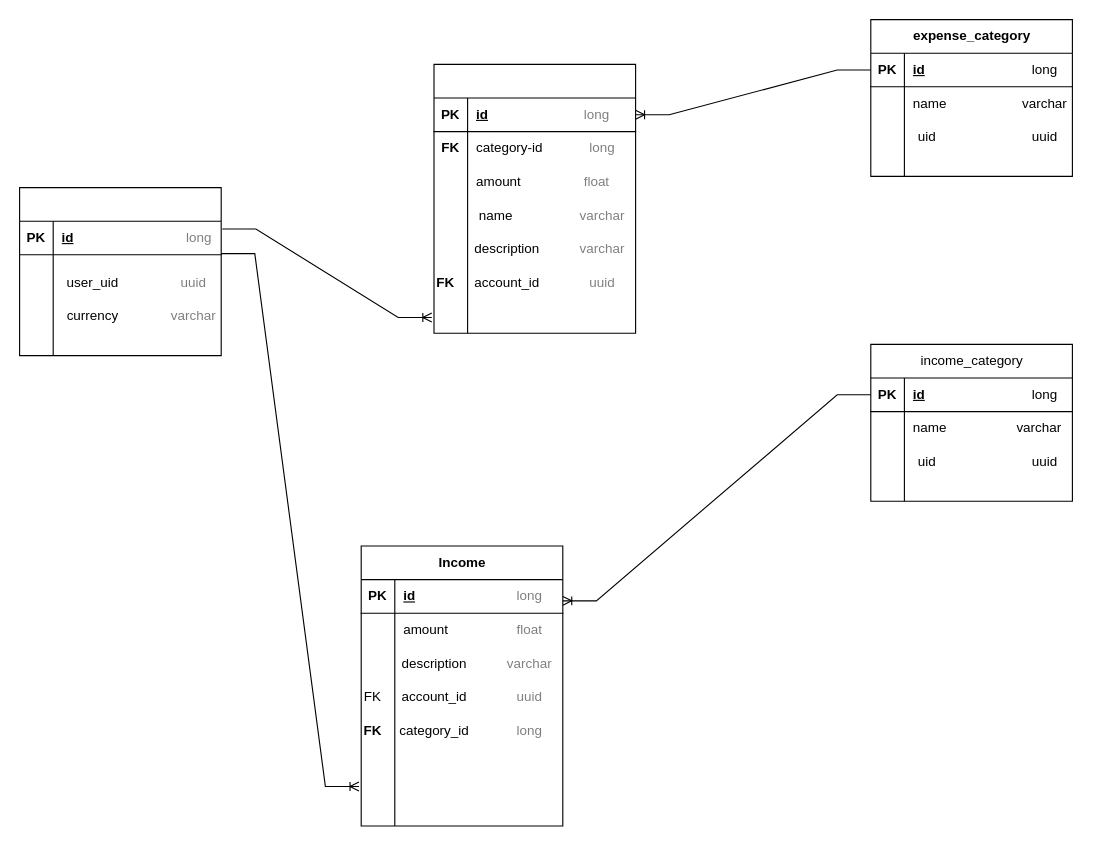
Some shapes in this 1098 by 846 pixel diagram are drawn without their labels. The shapes that lost their labels are listed below. From the top down, each one's box as (x1, y1, x2, y2) in pixels, then its label:
(433, 63, 636, 333): Expense
(18, 186, 221, 356): Account
